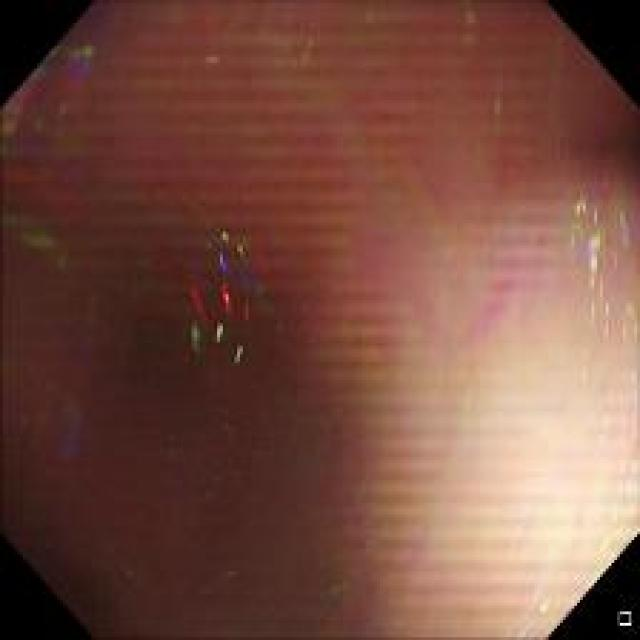color misalignment: (5, 6, 632, 618), (555, 135, 631, 351), (50, 290, 130, 474), (182, 222, 270, 370), (8, 31, 96, 145), (16, 202, 84, 301)
